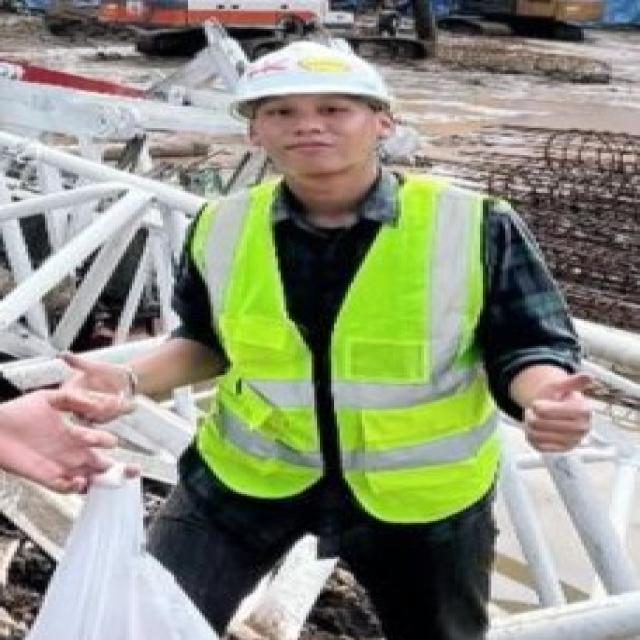safetyhelmet: (228, 40, 408, 144)
